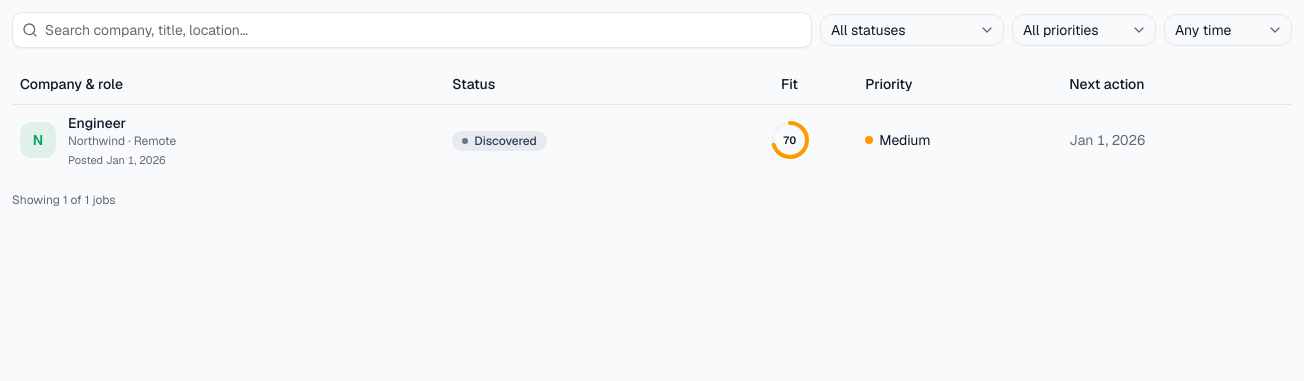
it: shows the "No matching jobs" filter hint when jobs exist but none match the query
Type "zzz-no-match" into the search field named "search jobs".
click(412, 30); type("zzz-no-match")  # box [12,12,812,48]
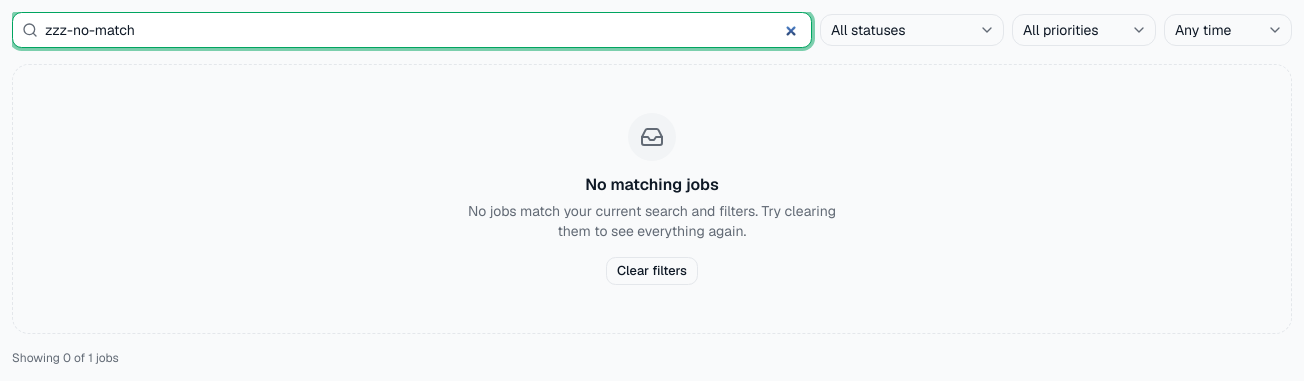
Now the heading "No matching jobs" is shown, box [585,173,719,197]
